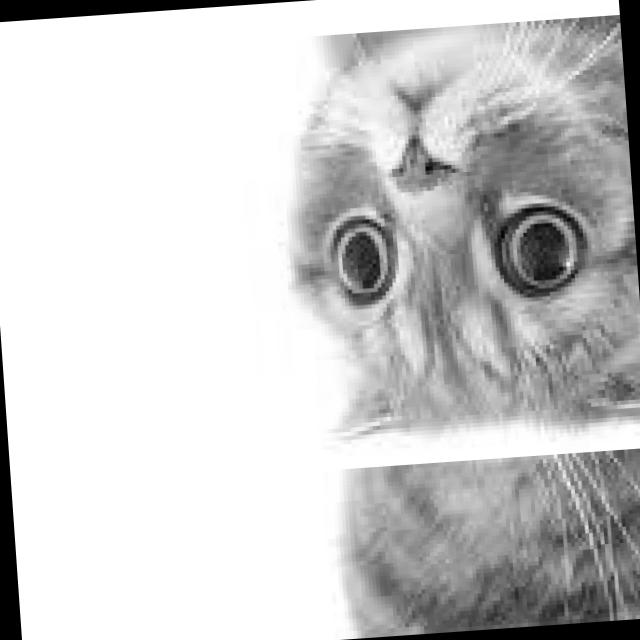scootish: (270, 14, 640, 471)
